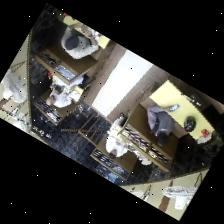person: (62, 23, 98, 58), (148, 105, 175, 145), (106, 112, 127, 158), (55, 73, 89, 94), (46, 85, 71, 107)
